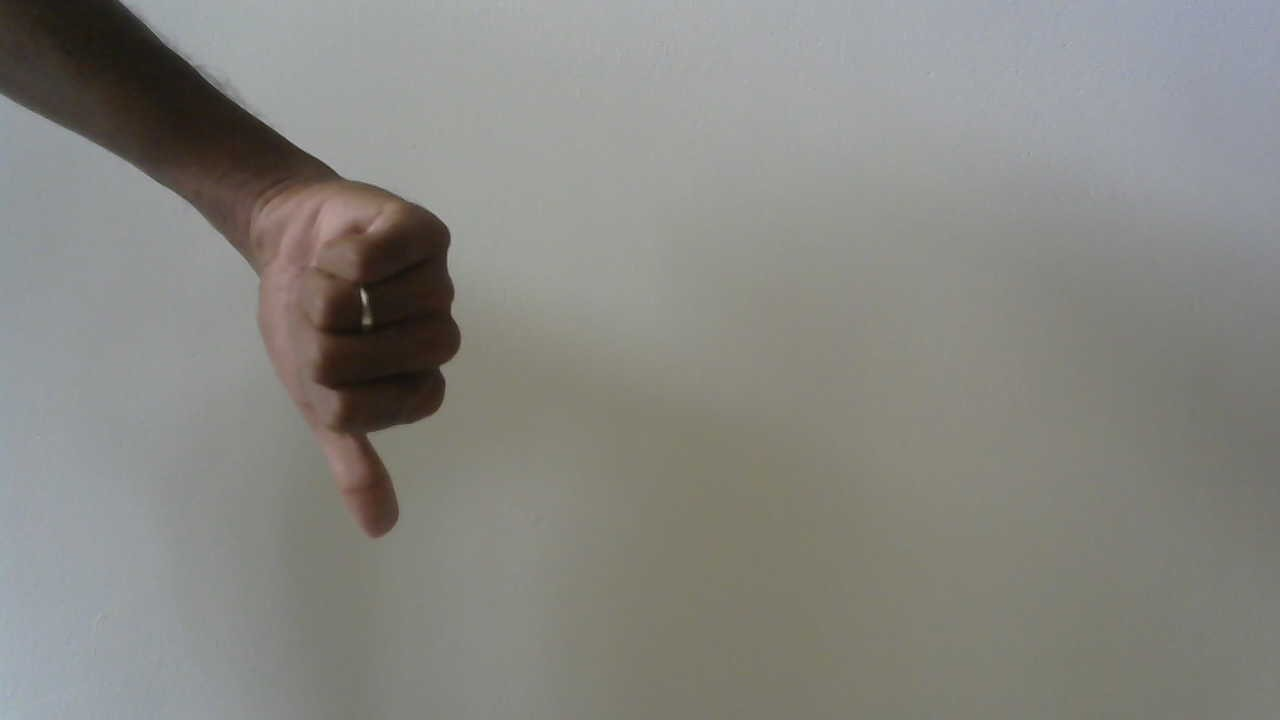thumbsdown: (241, 90, 475, 562)
